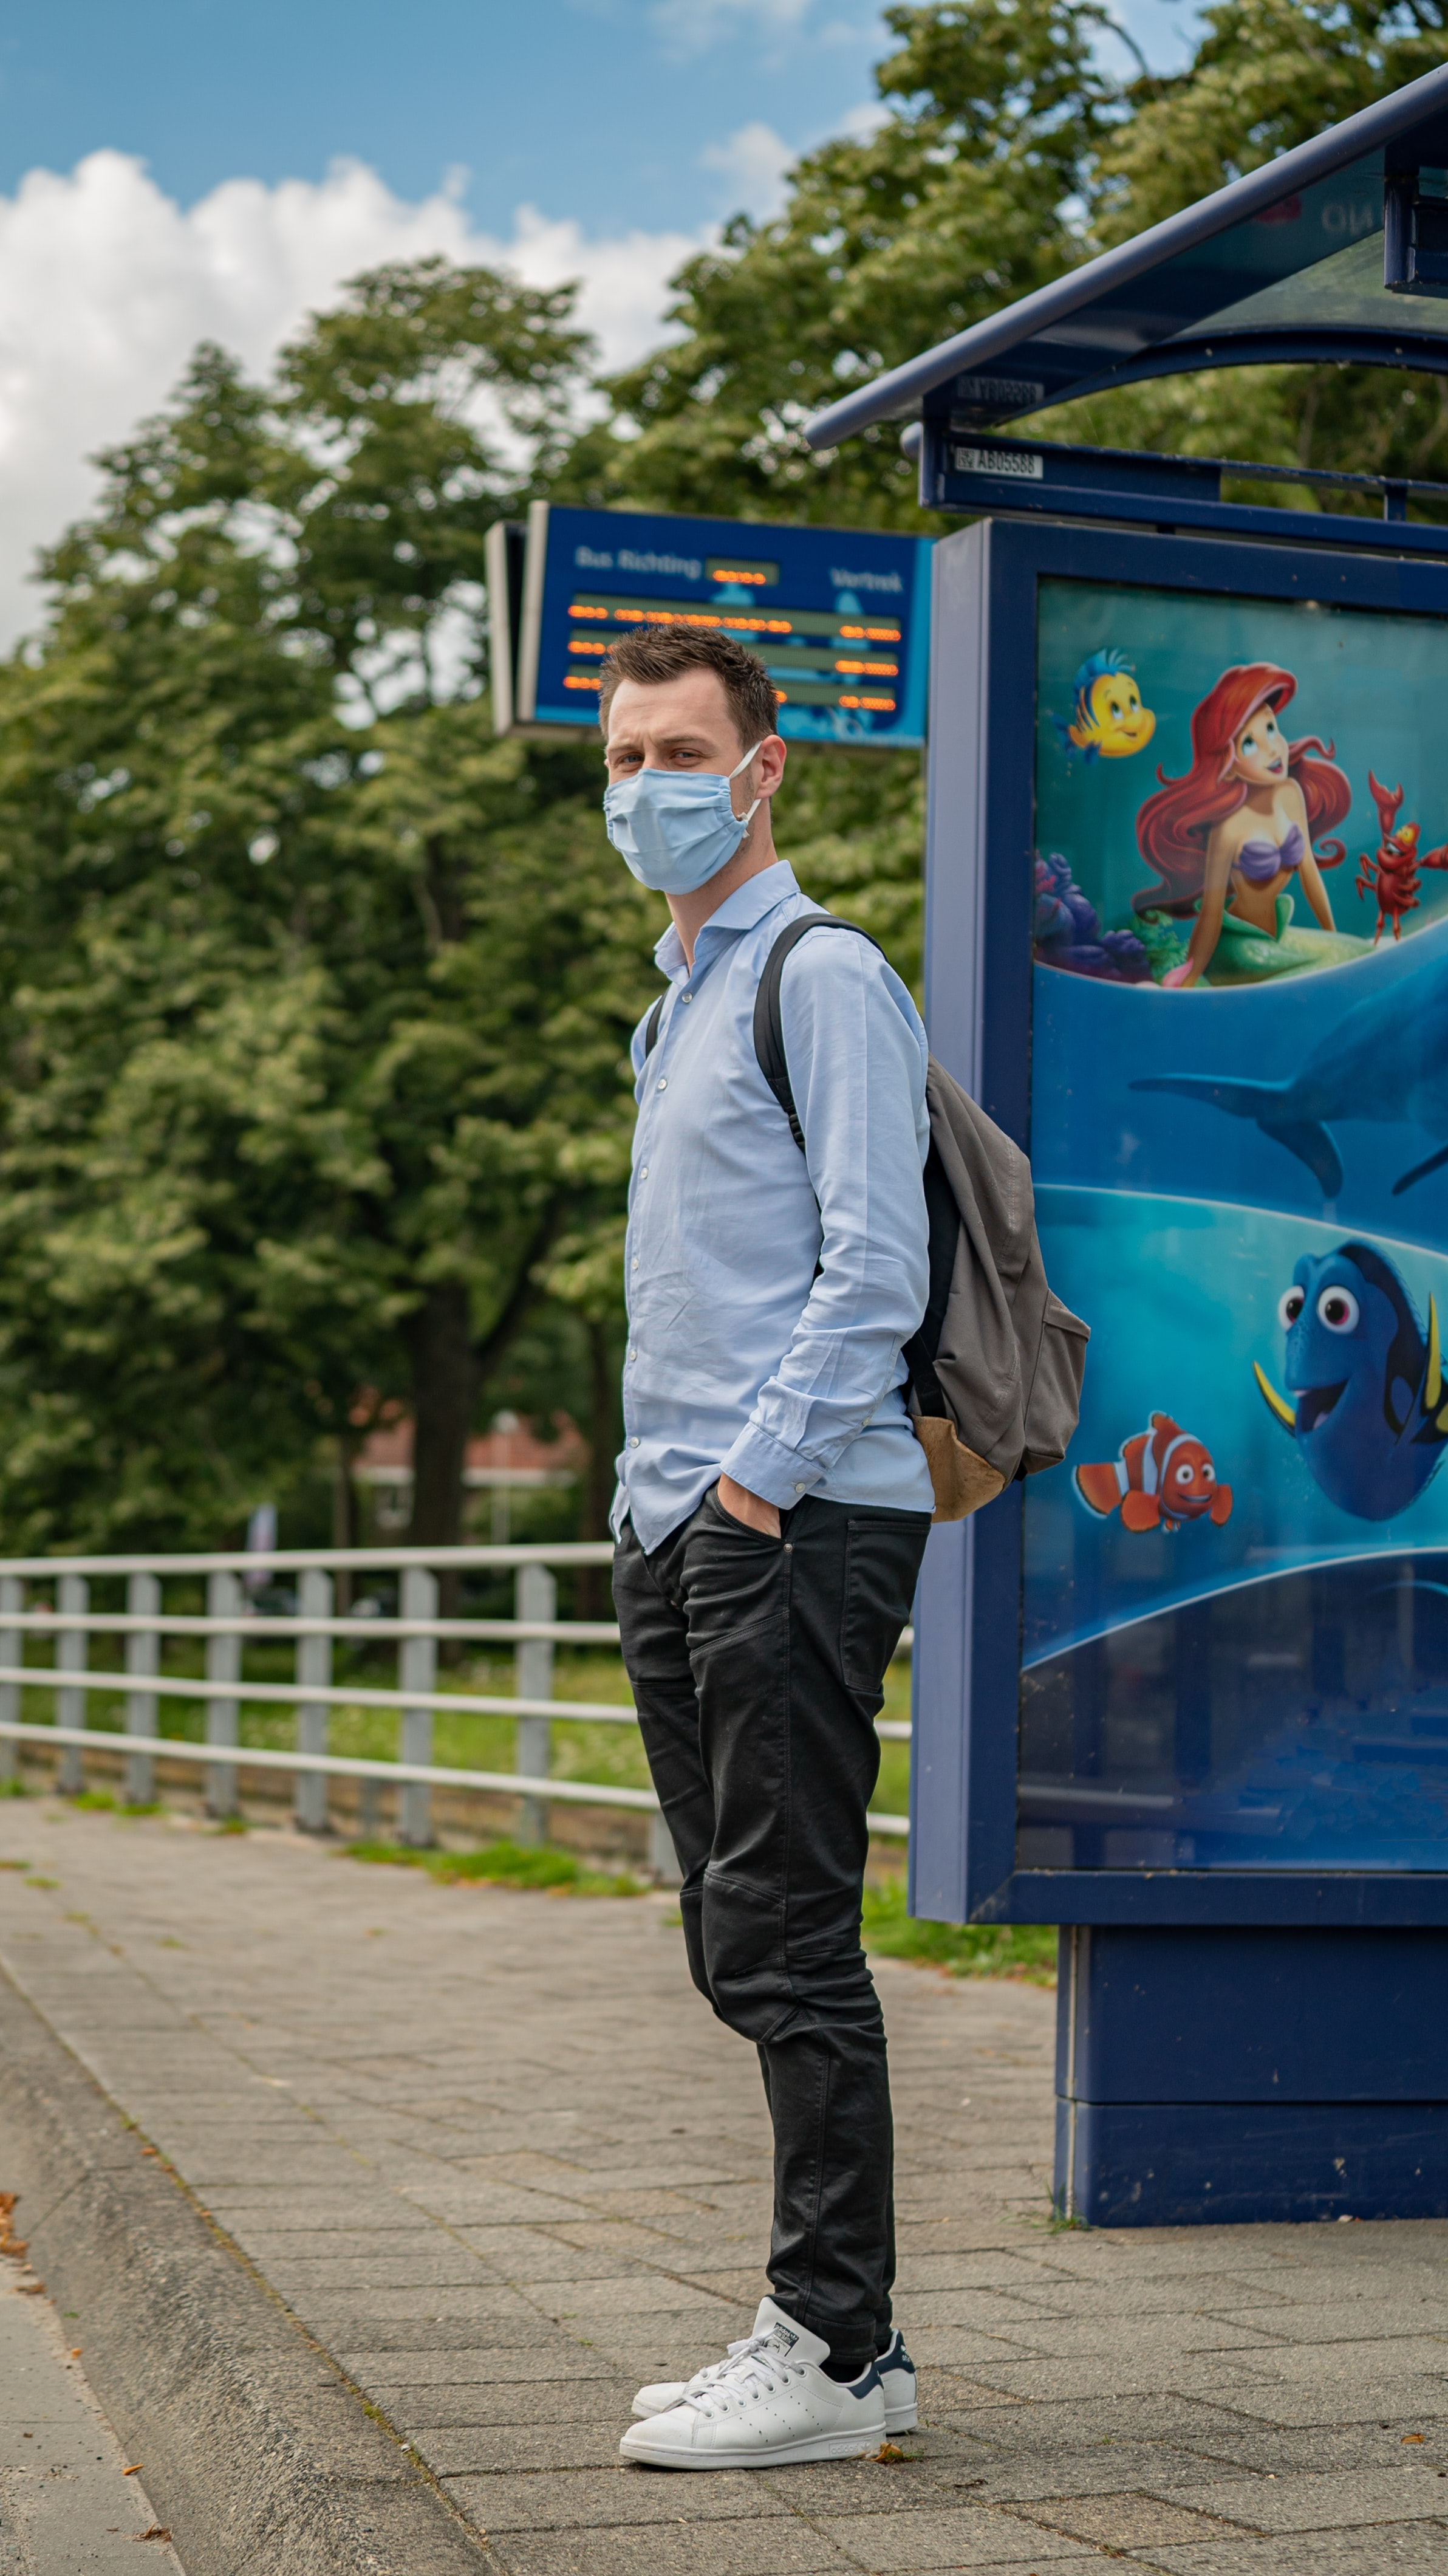mask: (576, 768, 761, 910)
person: (501, 620, 1056, 2515)
